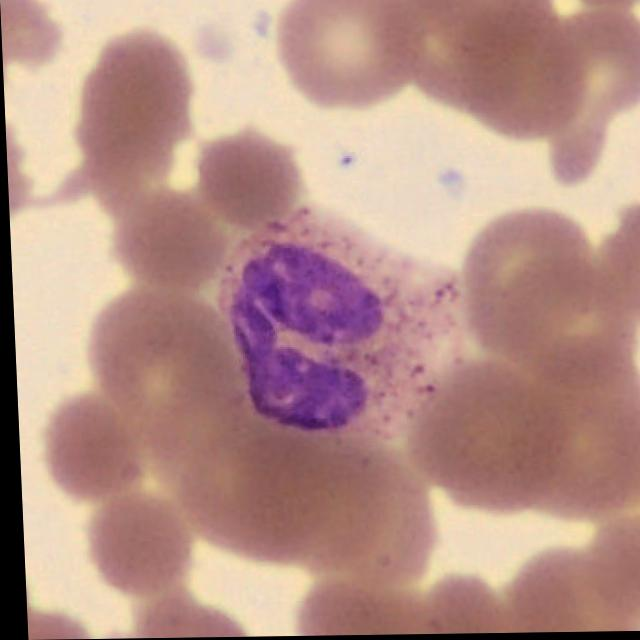Neutrofilo segmentado: (219, 208, 456, 446)
